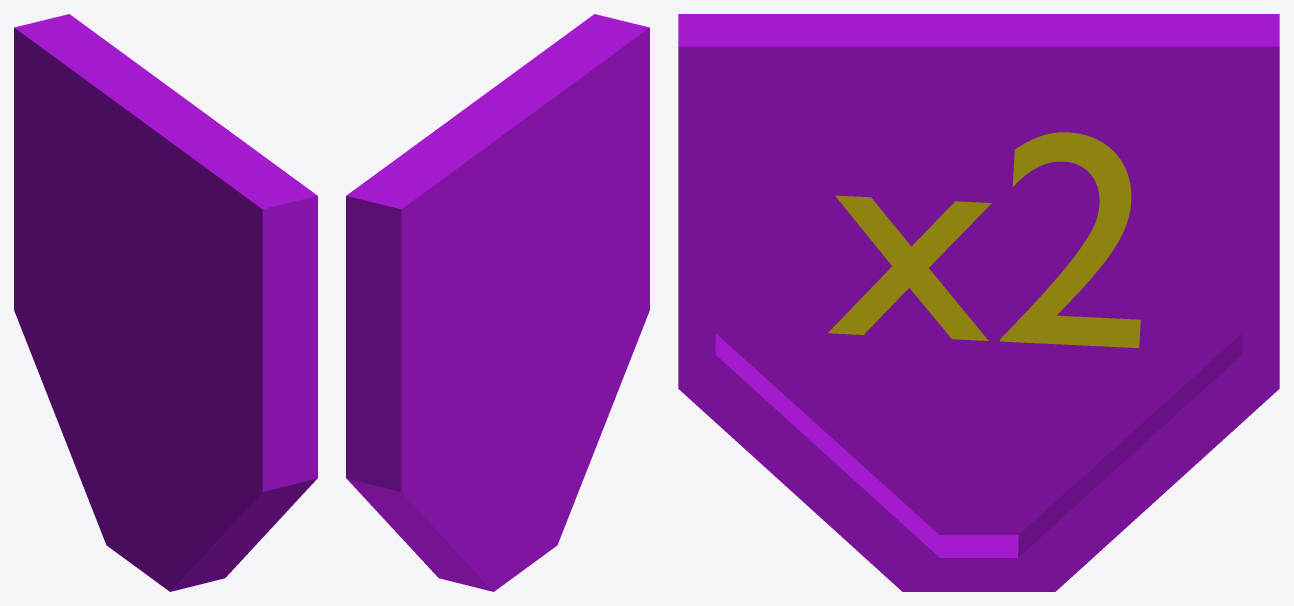
The model's file is PowerUp_Base.fbx.
3 views of the same model, side by side, from view 1: azimuth 30°, elevation 25°; view 2: azimuth 150°, elevation 25°; view 3: azimuth 270°, elevation 25° (orthographic). The views are drawn at different scales.
Parts seen in each view (by area): view 1: Cube; view 2: Cube; view 3: Cube, x2.
Boxes of the visible parts, x1,y1,x2,y2 form: Cube: [14, 14, 317, 591]; Cube: [346, 14, 649, 591]; Cube: [678, 14, 1279, 591]; x2: [828, 132, 1140, 348].
Size of the model in its own units: 25.74 by 200 by 200.
